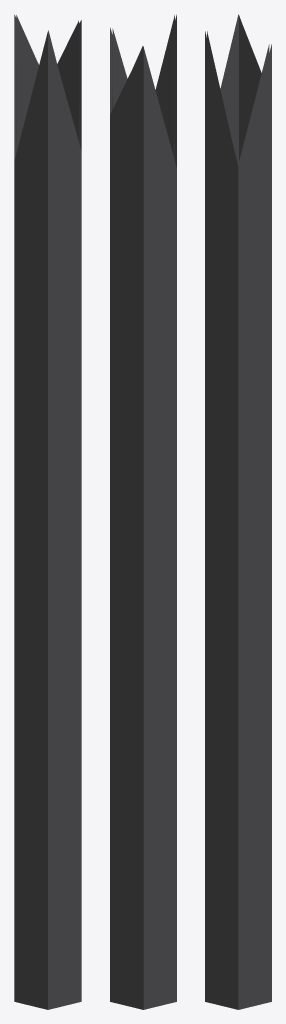
Rendered from Bandera Rota.fbx.
3 views of the same model, side by side, from view 1: azimuth 30°, elevation 25°; view 2: azimuth 150°, elevation 25°; view 3: azimuth 330°, elevation 25° (orthographic).
Parts seen in each view (by area): view 1: polySurface480; view 2: polySurface480; view 3: polySurface480.
Part boxes in pixels (bbox=[...]): polySurface480: bbox=[14, 14, 81, 1009]; polySurface480: bbox=[110, 14, 176, 1009]; polySurface480: bbox=[205, 14, 271, 1009].
Bounding box in the file's own units: 0.5429 × 7.54 × 0.4702.
